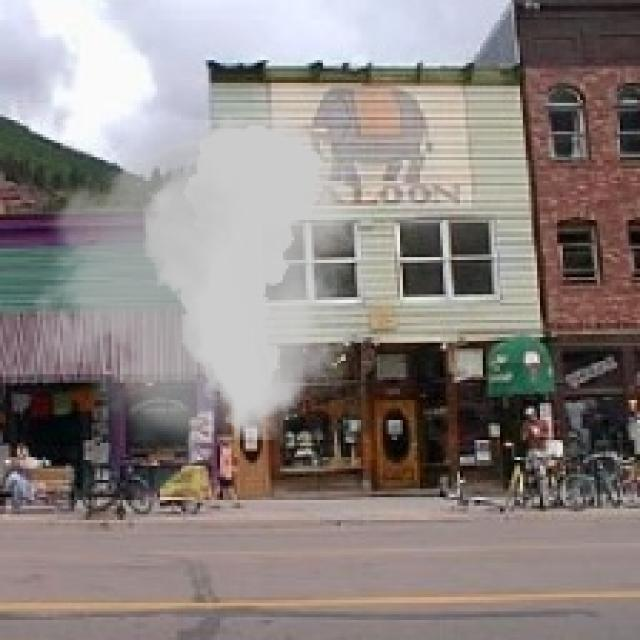Smoke: (11, 100, 383, 463)
